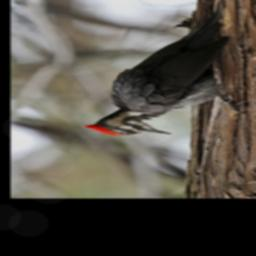Woodpecker: (82, 1, 247, 136)
